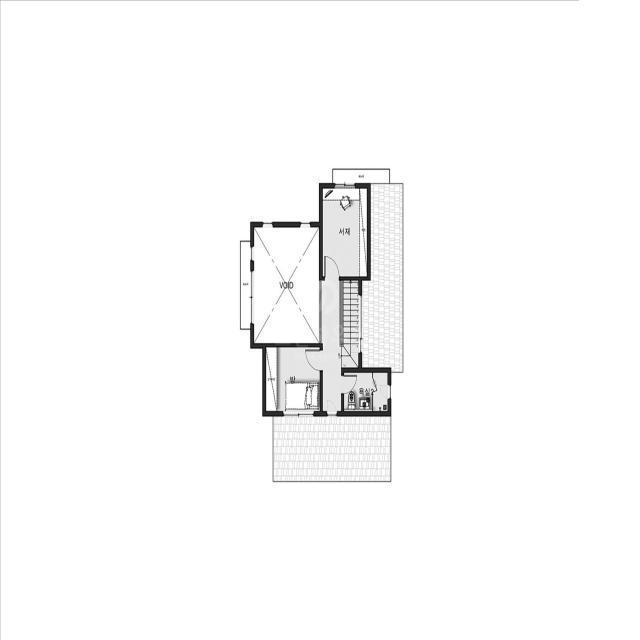space_bedroom: (266, 347, 320, 411)
space_living_room: (322, 280, 341, 411)
space_other: (254, 228, 319, 344), (323, 189, 367, 276)
space_staircase: (339, 280, 358, 367)
space_toilet: (344, 373, 388, 411)
